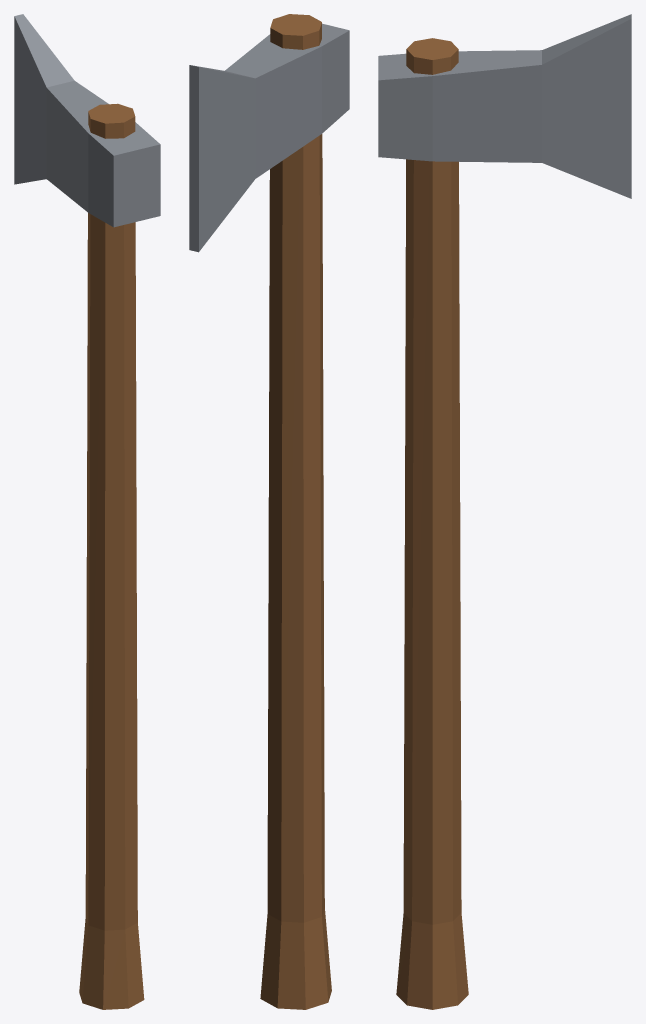
The model's file is tool_felling_axe.obj.
3 views of the same model, side by side, from view 1: azimuth 30°, elevation 25°; view 2: azimuth 150°, elevation 25°; view 3: azimuth 270°, elevation 25° (orthographic). The views are drawn at different scales.
Parts seen in each view (by area): view 1: tool_felling_axe; view 2: tool_felling_axe; view 3: tool_felling_axe.
Part boxes in pixels (<box>): tool_felling_axe: <box>14,14,160,1009</box>; tool_felling_axe: <box>189,14,349,1009</box>; tool_felling_axe: <box>378,14,631,1009</box>.
Size of the model in its own units: 0.04 by 0.5962 by 0.14.
